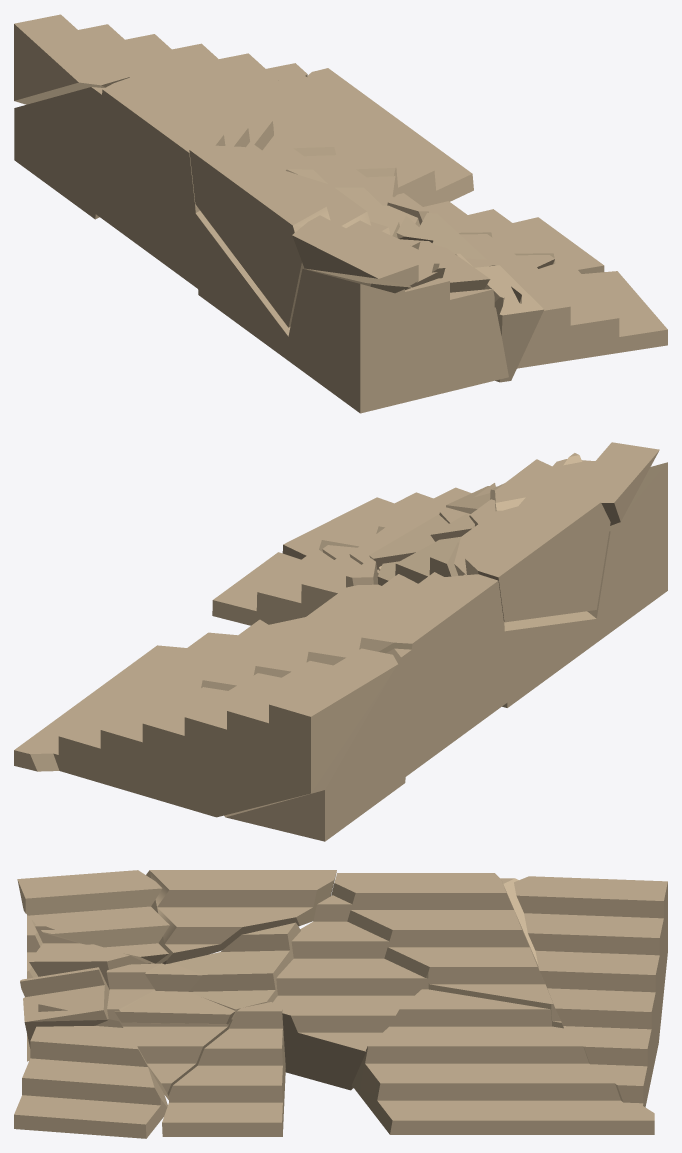
Rendered from SM_stair_debris_02.fbx.
The picture shows the model from 3 angles, top to bottom: view 1: azimuth 30°, elevation 25°; view 2: azimuth 150°, elevation 25°; view 3: azimuth 270°, elevation 25°; orthographic projection. The views are drawn at different scales.
Parts seen in each view (by area): view 1: stair_debris_02; view 2: stair_debris_02; view 3: stair_debris_02.
Part boxes in pixels (box(x1,y1,x2,y2)): stair_debris_02: box(14, 14, 667, 413); stair_debris_02: box(14, 442, 667, 841); stair_debris_02: box(14, 870, 667, 1138).
Bounding box in the file's own units: 273 × 116 × 517.
